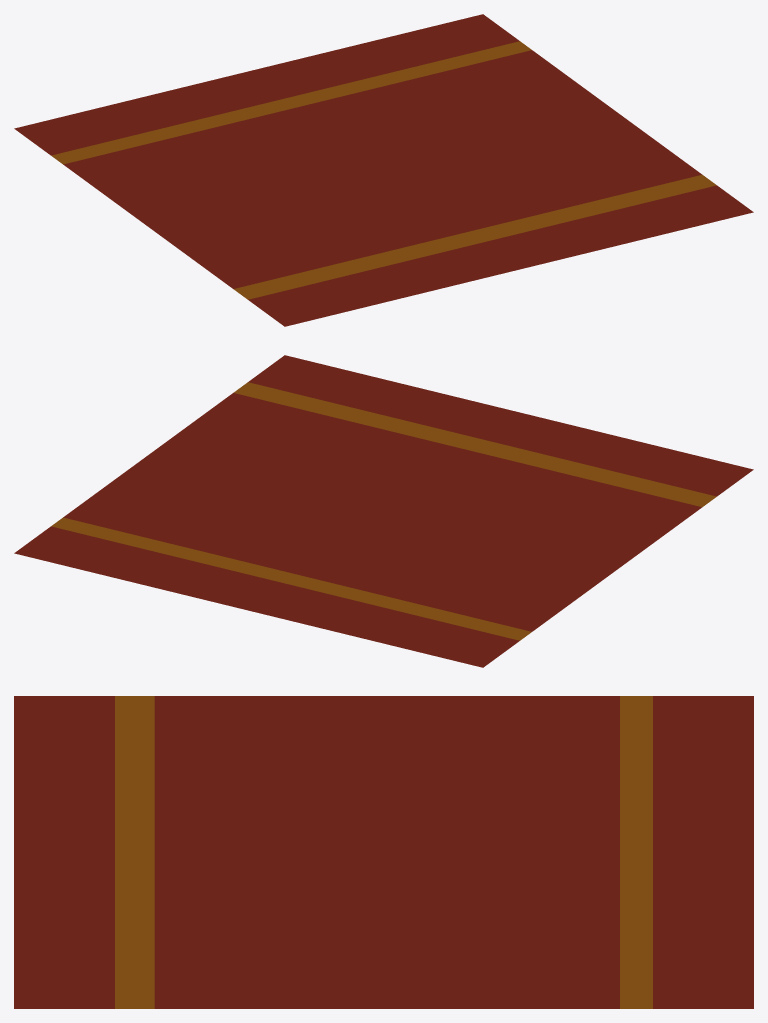
The model's file is Carpet_01.fbx.
The picture shows the model from 3 angles, top to bottom: view 1: azimuth 30°, elevation 25°; view 2: azimuth 150°, elevation 25°; view 3: azimuth 270°, elevation 25°; orthographic projection. The views are drawn at different scales.
Parts seen in each view (by area): view 1: carpet_02; view 2: carpet_02; view 3: carpet_02.
Boxes of the visible parts, left/top/right/bottom form: carpet_02: left=14, top=14, right=753, bottom=326; carpet_02: left=14, top=355, right=753, bottom=667; carpet_02: left=14, top=696, right=753, bottom=1008.
Size of the model in its own units: 3.84 by 8.53e-16 by 3.84.
